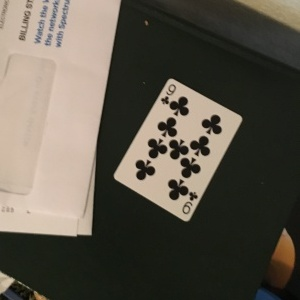card: (111, 77, 244, 223)
